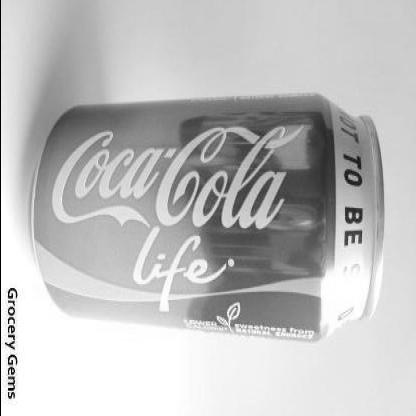alumunium_can: (27, 93, 384, 345)
